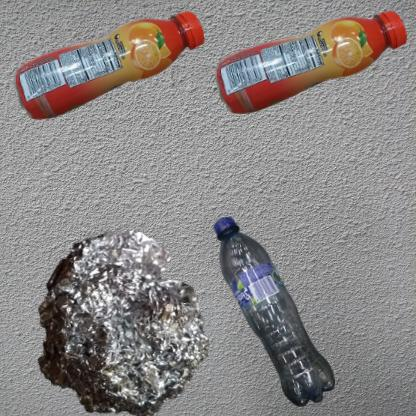aluminio: (10, 213, 234, 416)
botella: (213, 213, 336, 412), (10, 10, 216, 125), (213, 10, 412, 115)
